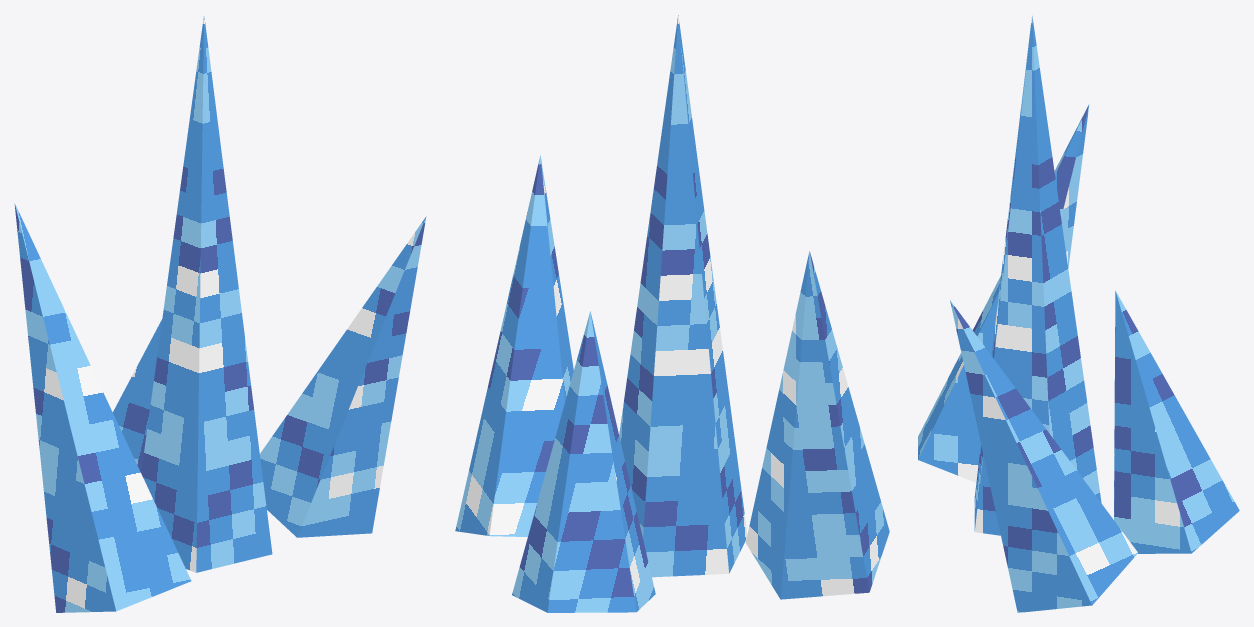
Rendered from a83_refletor_de_cristal.glb.
The picture shows the model from 3 angles, left to right: view 1: azimuth 30°, elevation 25°; view 2: azimuth 150°, elevation 25°; view 3: azimuth 270°, elevation 25°; orthographic projection. The views are drawn at different scales.
Parts seen in each view (by area): view 1: a83_refletor_de_cristal; view 2: a83_refletor_de_cristal; view 3: a83_refletor_de_cristal.
Part boxes in pixels (<box>): a83_refletor_de_cristal: <box>14,14,426,612</box>; a83_refletor_de_cristal: <box>455,15,889,612</box>; a83_refletor_de_cristal: <box>918,14,1239,612</box>.
Size of the model in its own units: 0.9887 by 1.47 by 0.8155.
Materials: 1 (1 with a texture image).
